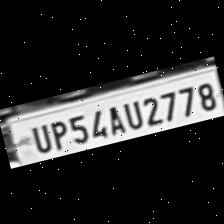2: (136, 92, 163, 128)
4: (83, 104, 108, 140)
5: (63, 110, 91, 146)
7: (171, 82, 198, 119), (155, 87, 179, 122)
8: (190, 77, 218, 113)
A: (99, 100, 126, 138)
P: (45, 116, 70, 152)
U: (24, 120, 54, 155), (118, 95, 144, 132)
